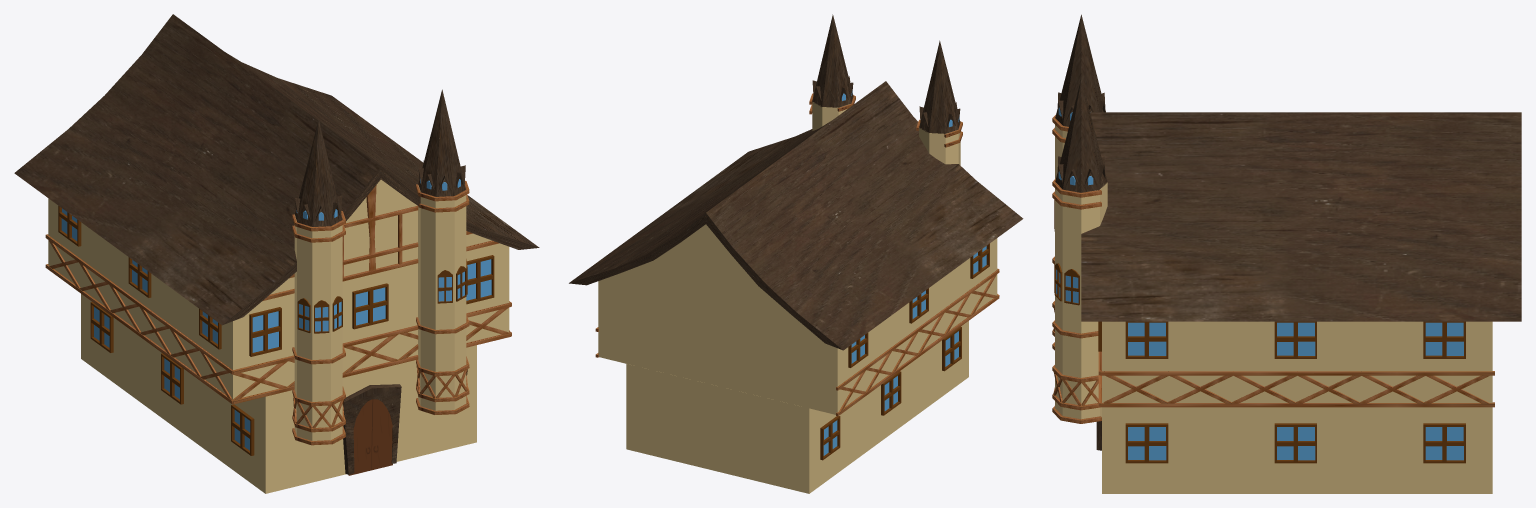
File: townHall.fbx
3 renders of one model, left to right at view 1: azimuth 30°, elevation 25°; view 2: azimuth 150°, elevation 25°; view 3: azimuth 270°, elevation 25°, orthographic. The views are drawn at different scales.
Visible parts, largest first — view 1: TownHouse; view 2: TownHouse; view 3: TownHouse.
Boxes of the visible parts, x1,y1,x2,y2 form: TownHouse: (14,14,539,493); TownHouse: (569,14,1023,493); TownHouse: (1052,14,1521,493).
Bounding box in the file's own units: 1474 × 1651 × 1781.
6 materials, 3 textured.
